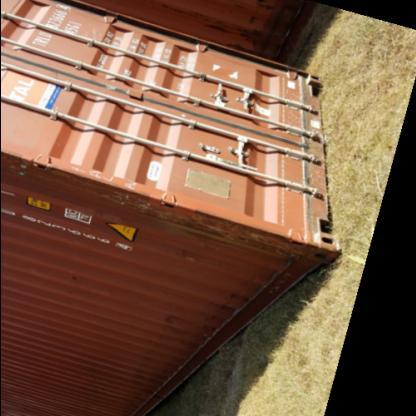Damage: (128, 193, 330, 260), (198, 282, 254, 336), (140, 301, 170, 398)
